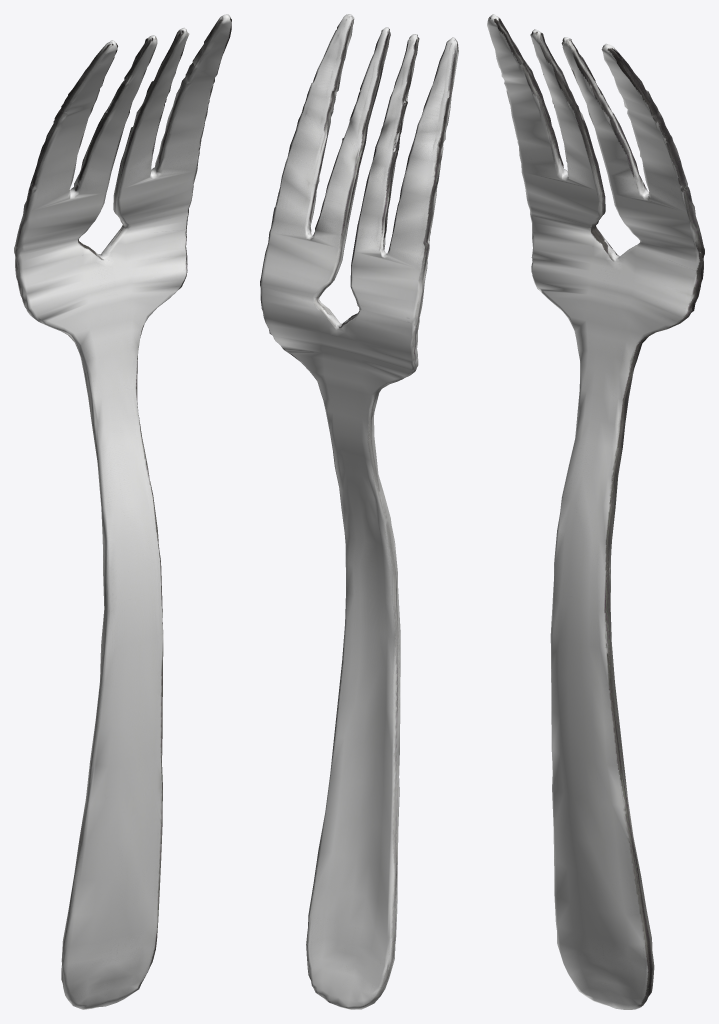
File: Meshy_AI_Stainless_Steel_Salad_fork_0225003019_texture.glb
3 renders of one model, left to right at view 1: azimuth 30°, elevation 25°; view 2: azimuth 150°, elevation 25°; view 3: azimuth 330°, elevation 25°, orthographic. The views are drawn at different scales.
Parts seen in each view (by area): view 1: Mesh_0; view 2: Mesh_0; view 3: Mesh_0.
Part boxes in pixels (box(x1,y1,x2,y2)): Mesh_0: box(14, 14, 231, 1009); Mesh_0: box(260, 14, 458, 1009); Mesh_0: box(487, 14, 704, 1009).
Bounding box in the file's own units: 0.0266 × 0.1524 × 0.0197.
Materials: 1 (1 with a texture image).
